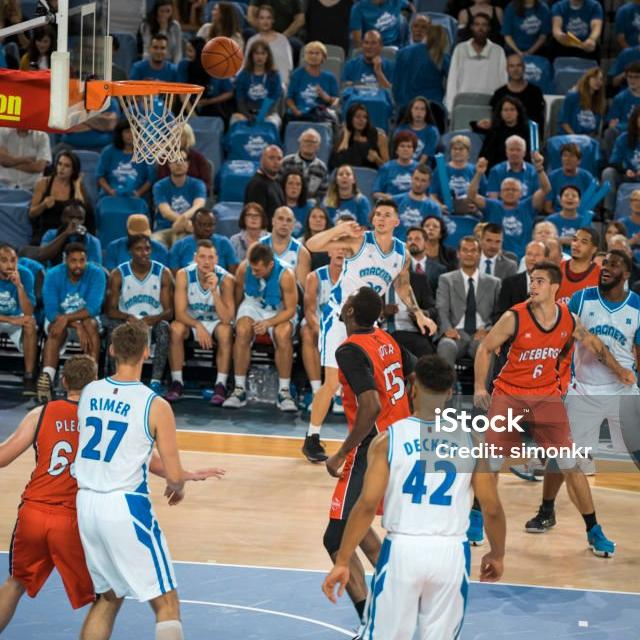basketball: (203, 38, 243, 78)
hoop: (115, 80, 203, 168)
